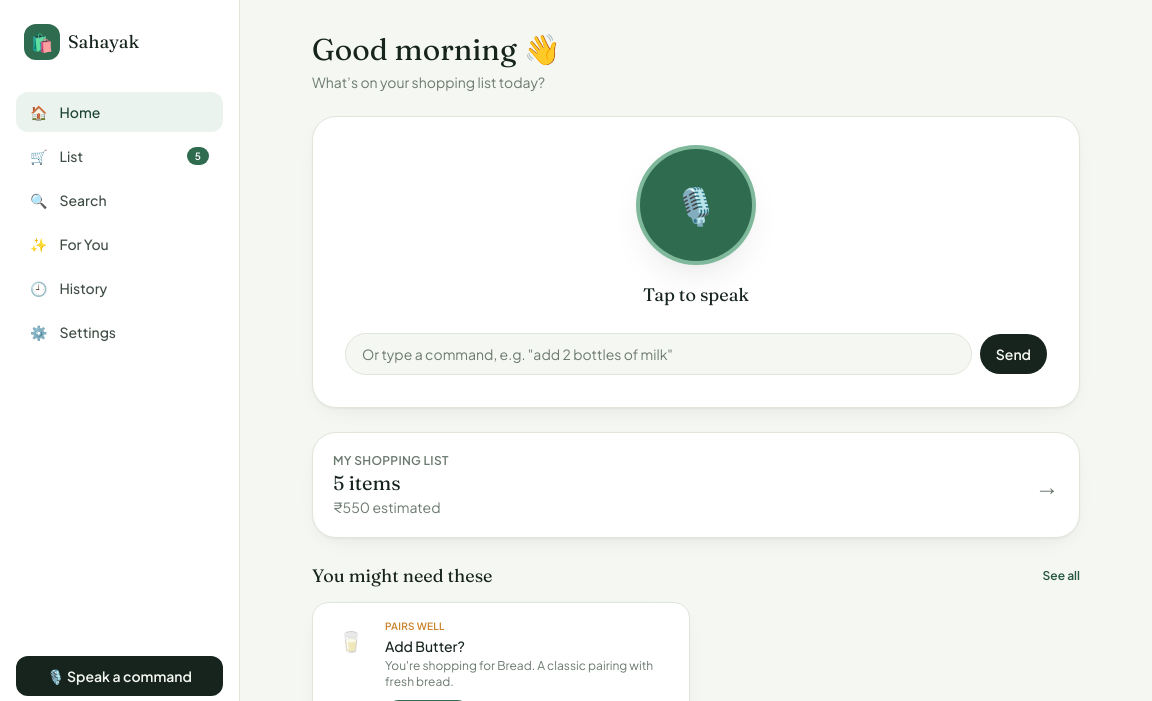
App smoke test › handles an unrecognized command gracefully
This screenshot has width=1152, height=701.
Type "xyz gibberish nonsense" into the field with placeholder "Or type a command, e.g. \"add 2 bottles of milk\"".
click(658, 354); type("xyz gibberish nonsense")  # box [345,333,972,375]
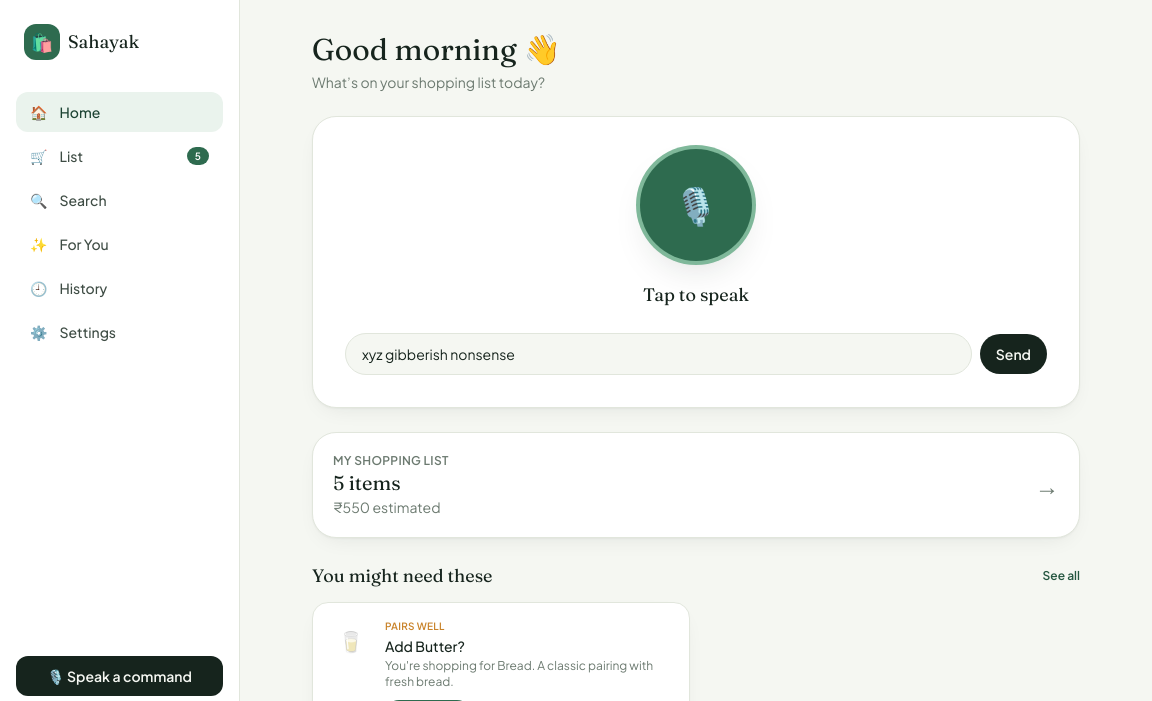
Submit the form with placeholder "add 2 bottles of milk", box [345,333,1047,375]
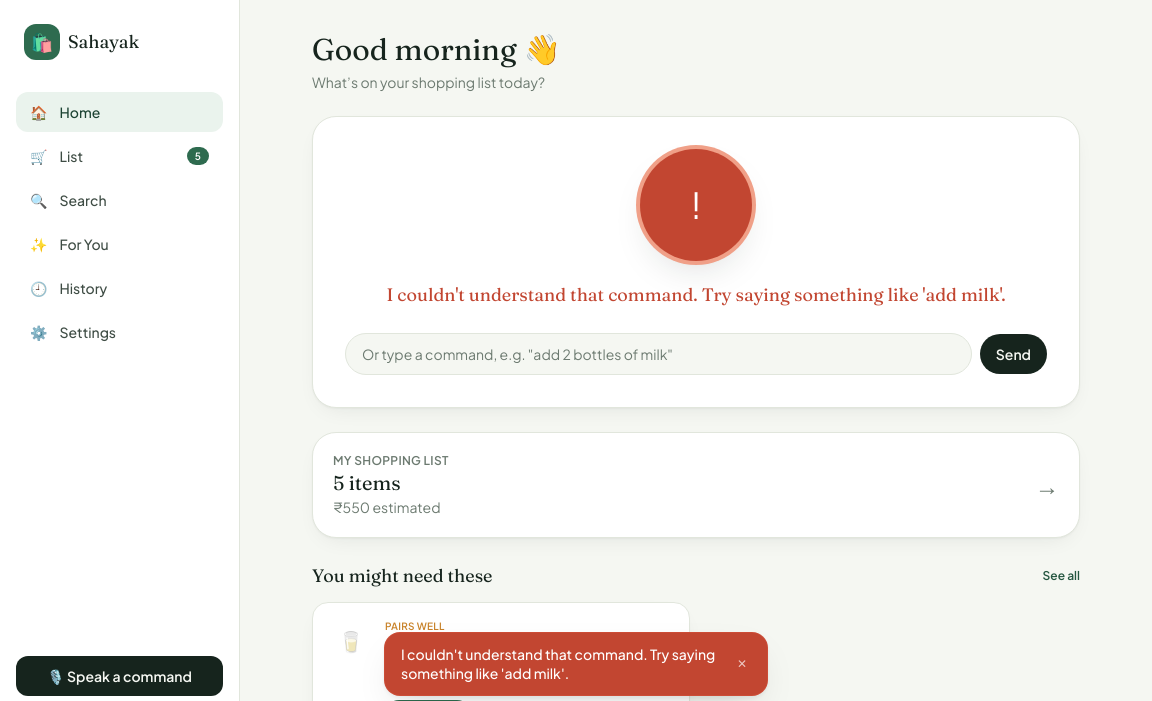
Expected: the text "couldn't understand" below "What’s on your shopping list today?" is shown, [386,283,1006,306]
